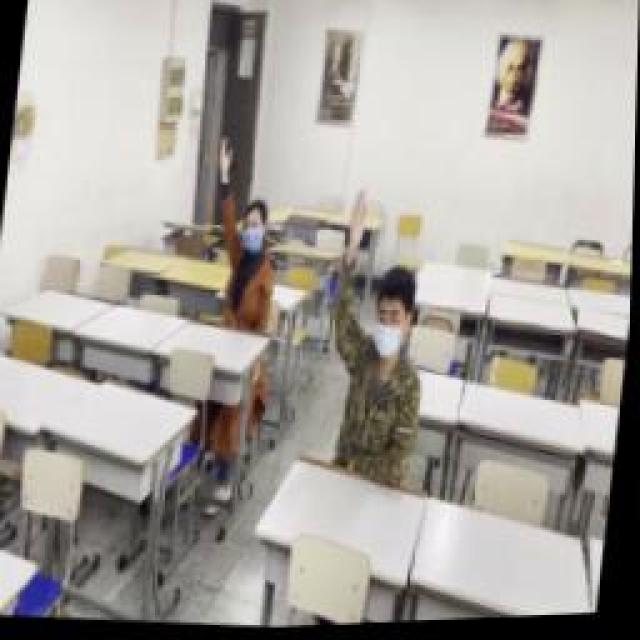study: (313, 180, 445, 475), (200, 135, 288, 330)
